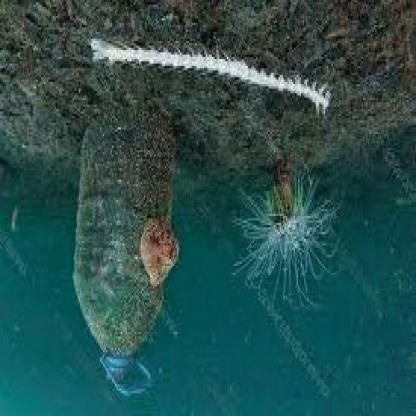pbottle: (62, 97, 182, 395)
